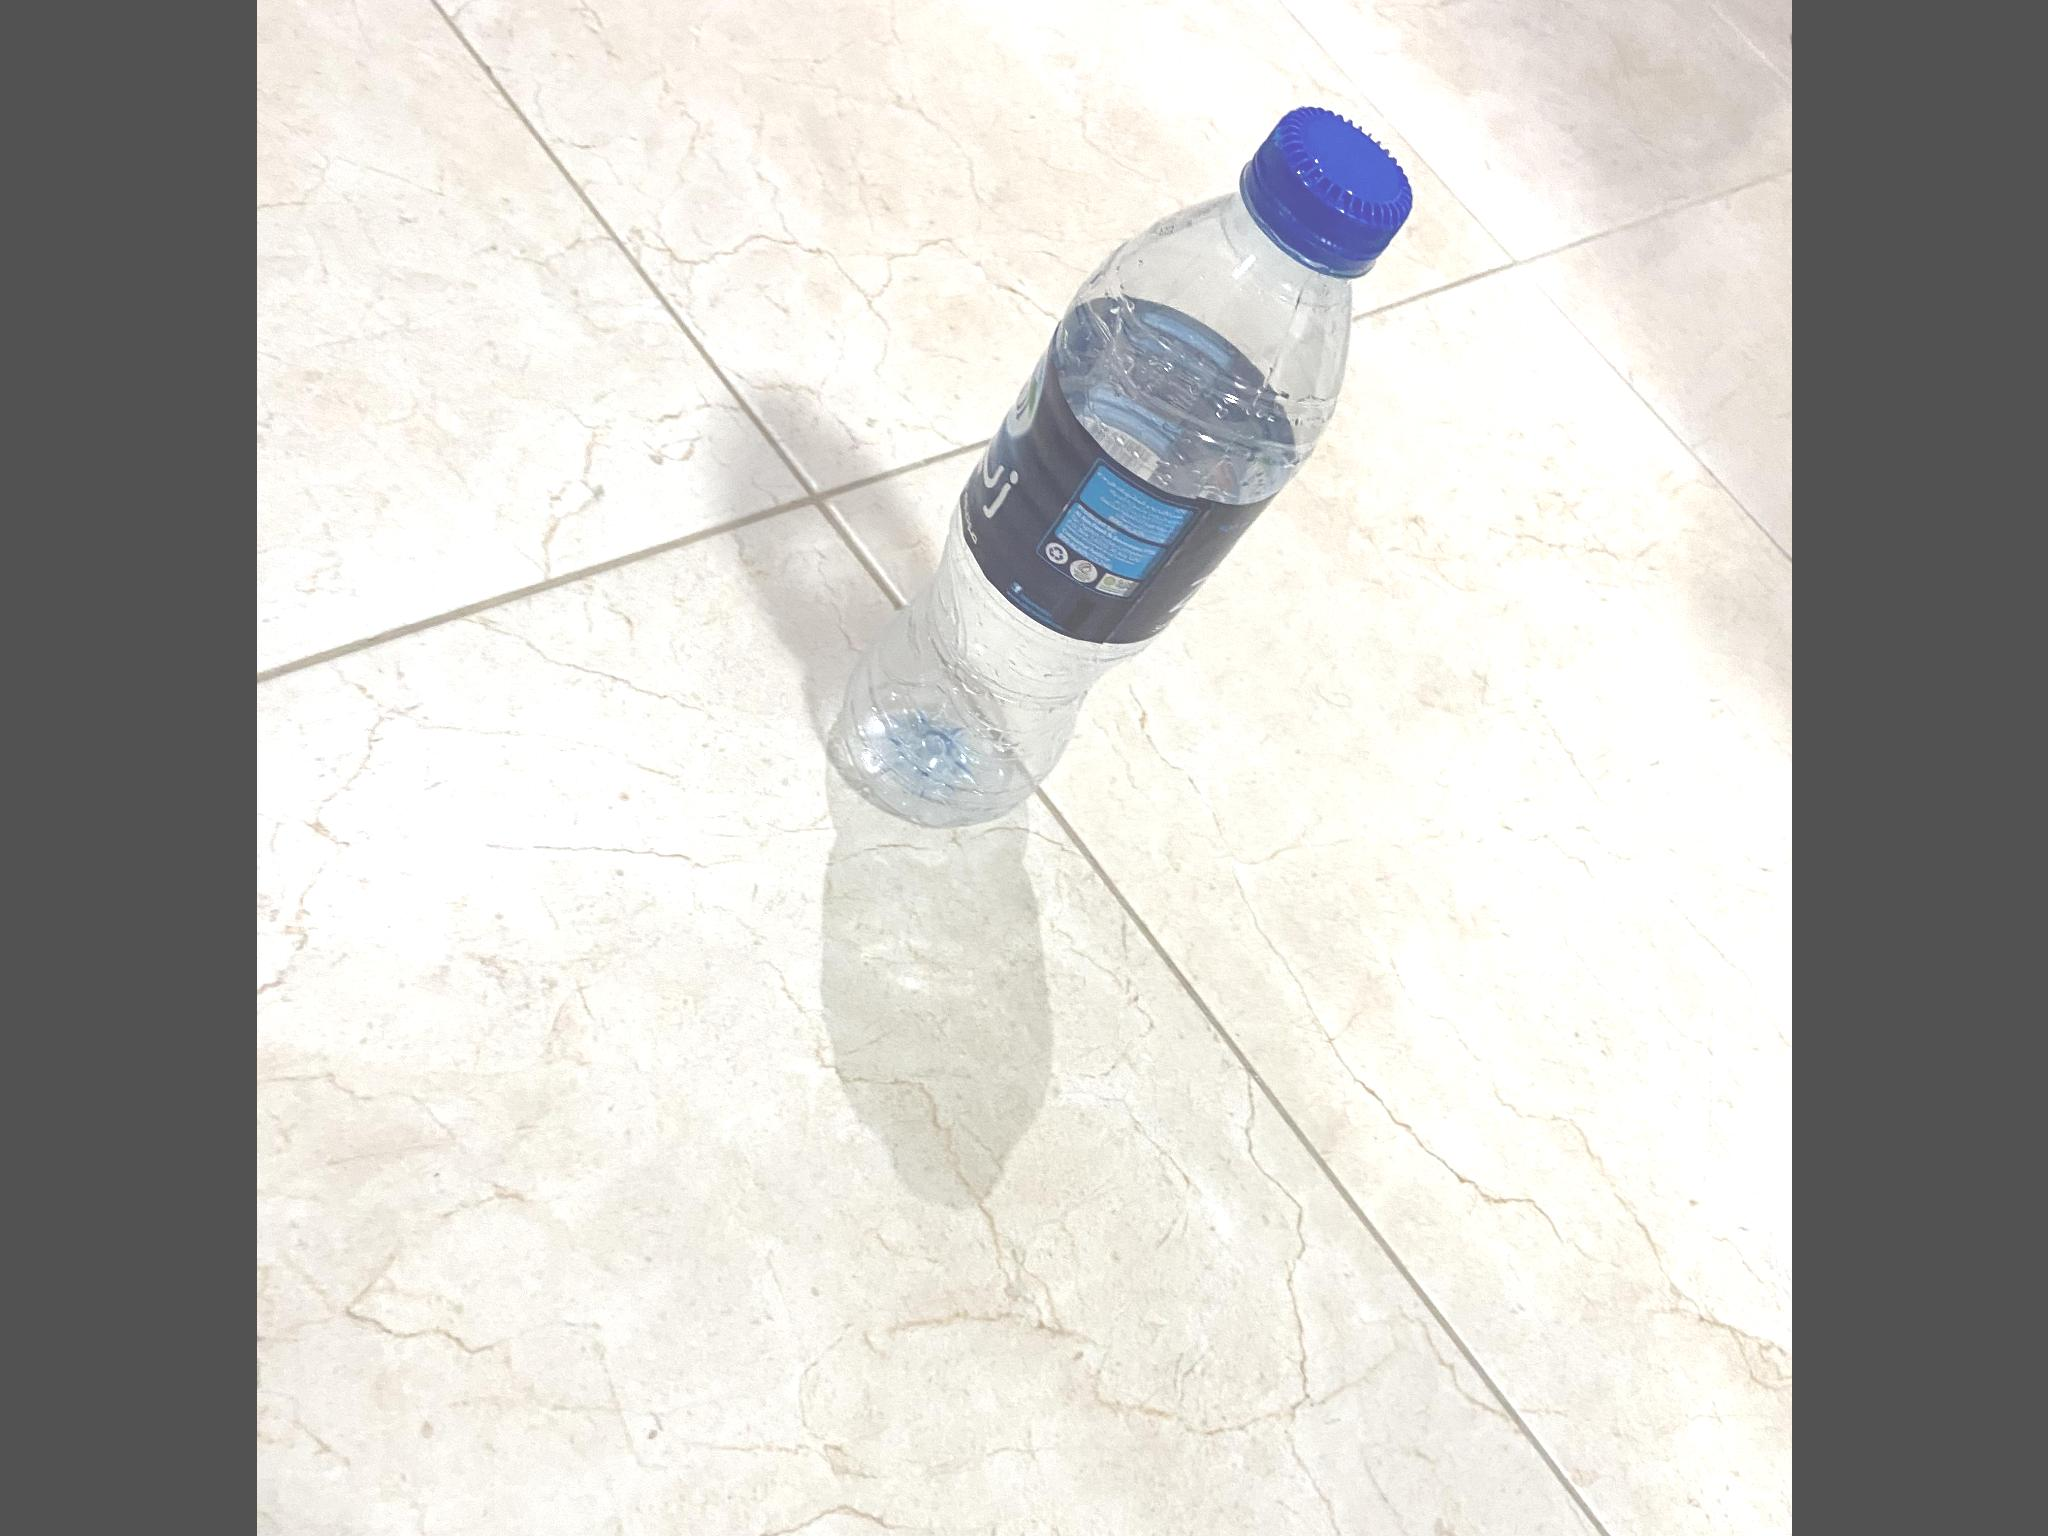bottle: (826, 74, 1429, 833)
